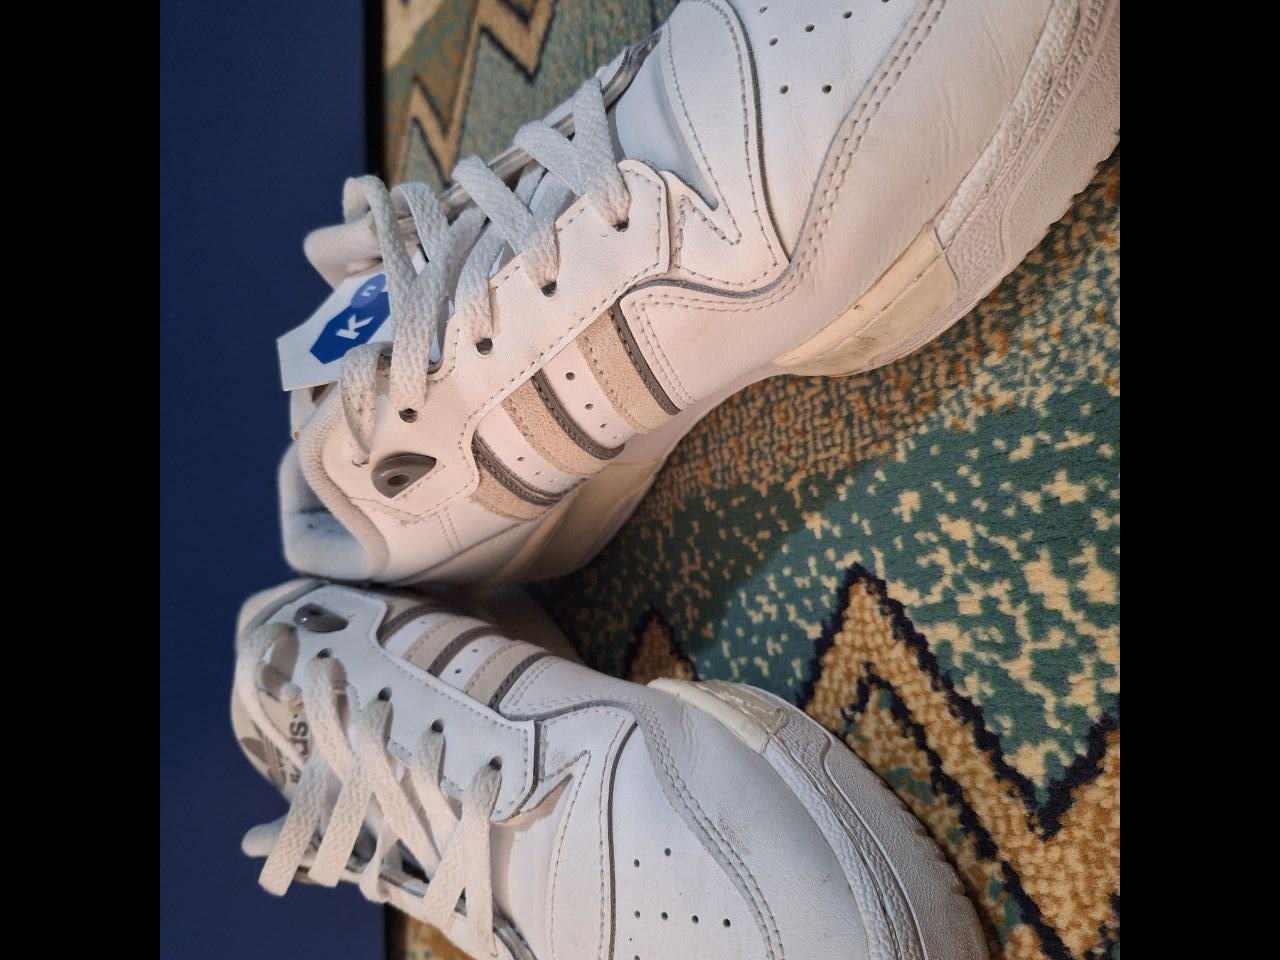knative: (303, 253, 392, 373)
